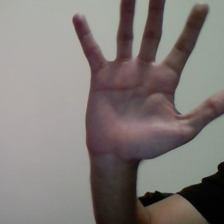left: (63, 1, 219, 147)
